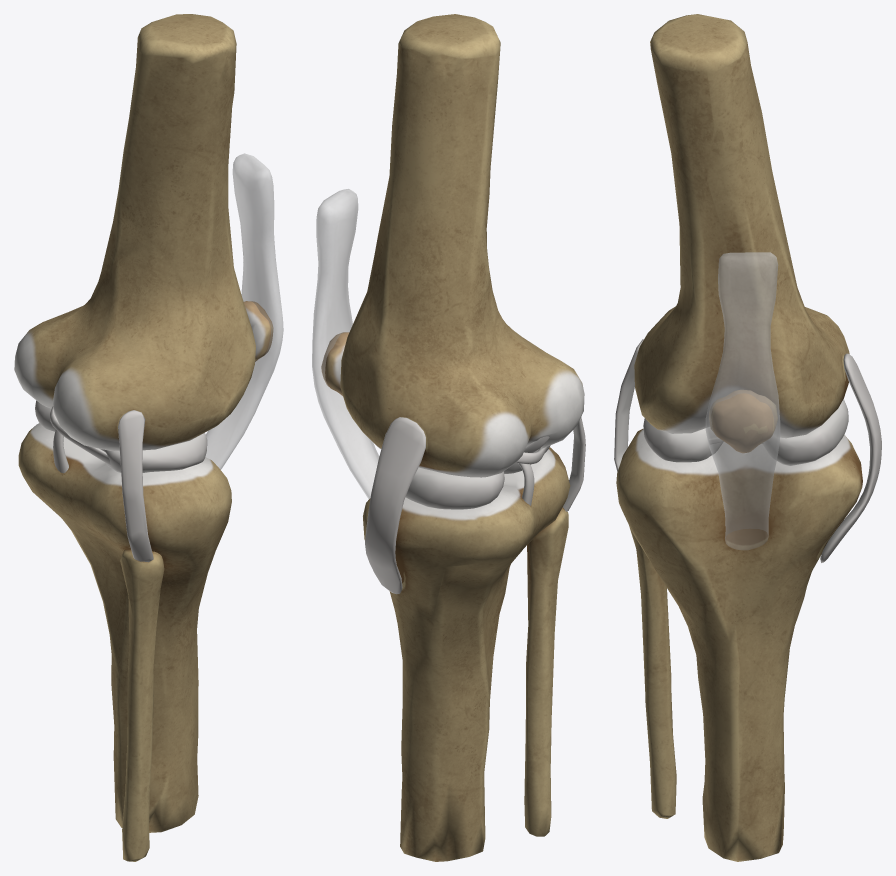
File: knee_anatomy.glb
The picture shows the model from 3 angles, left to right: view 1: azimuth 30°, elevation 25°; view 2: azimuth 150°, elevation 25°; view 3: azimuth 270°, elevation 25°; orthographic projection. The views are drawn at different scales.
Parts seen in each view (by area): view 1: Bone_Low, Transparenty_Low, Mash_Low; view 2: Bone_Low, Mash_Low, Transparenty_Low; view 3: Bone_Low, Transparenty_Low, Mash_Low.
Part boxes in pixels (x1,y1,x2,y2): Bone_Low: [14, 14, 255, 861]; Transparenty_Low: [205, 153, 283, 469]; Mash_Low: [35, 301, 273, 562]; Bone_Low: [340, 14, 584, 861]; Mash_Low: [321, 332, 585, 594]; Transparenty_Low: [312, 189, 379, 498]; Bone_Low: [616, 14, 862, 861]; Transparenty_Low: [705, 252, 780, 549]; Mash_Low: [614, 339, 881, 562].
Size of the model in its own units: 0.0457 by 0.1498 by 0.0443.
3 materials, 3 textured.
